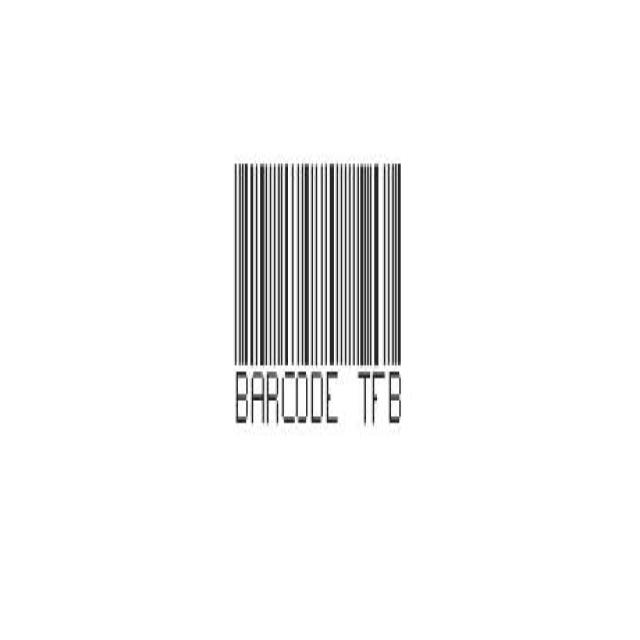Barkod: (228, 150, 410, 433)
